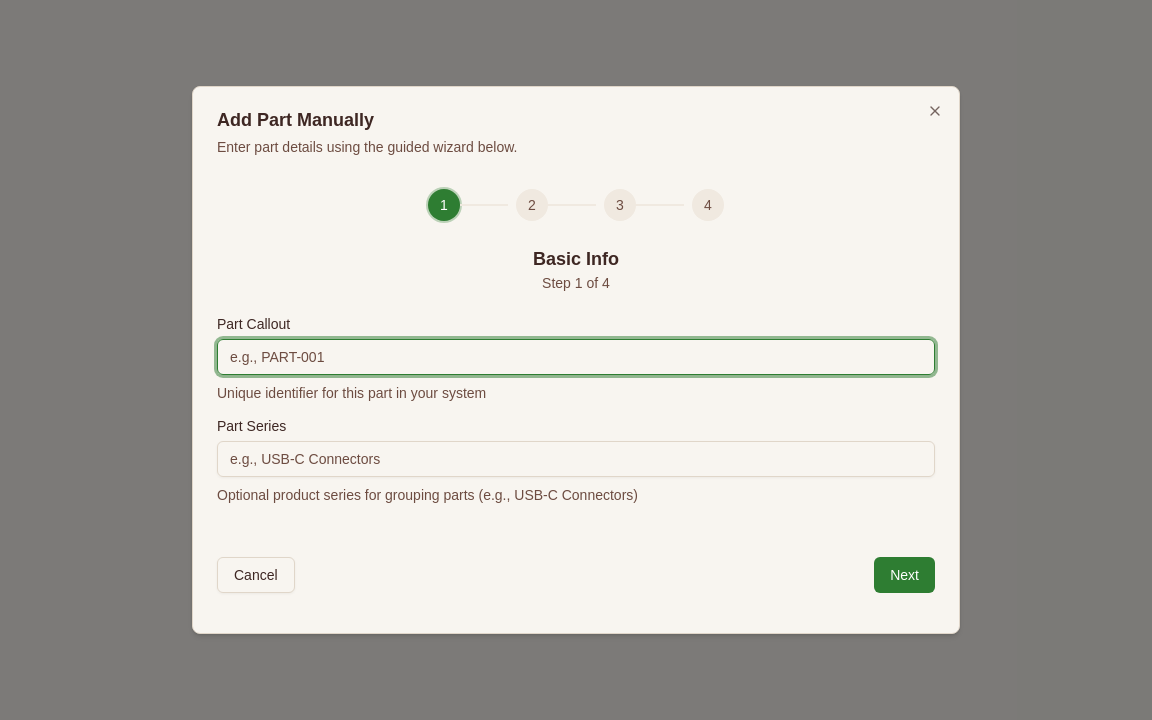
Test case: PartManualEntryModal › validation errors › shows validation error on step 1 for empty callout
This screenshot has width=1152, height=720.
Click the button "Next" at (905, 575), box [874,557,935,593]
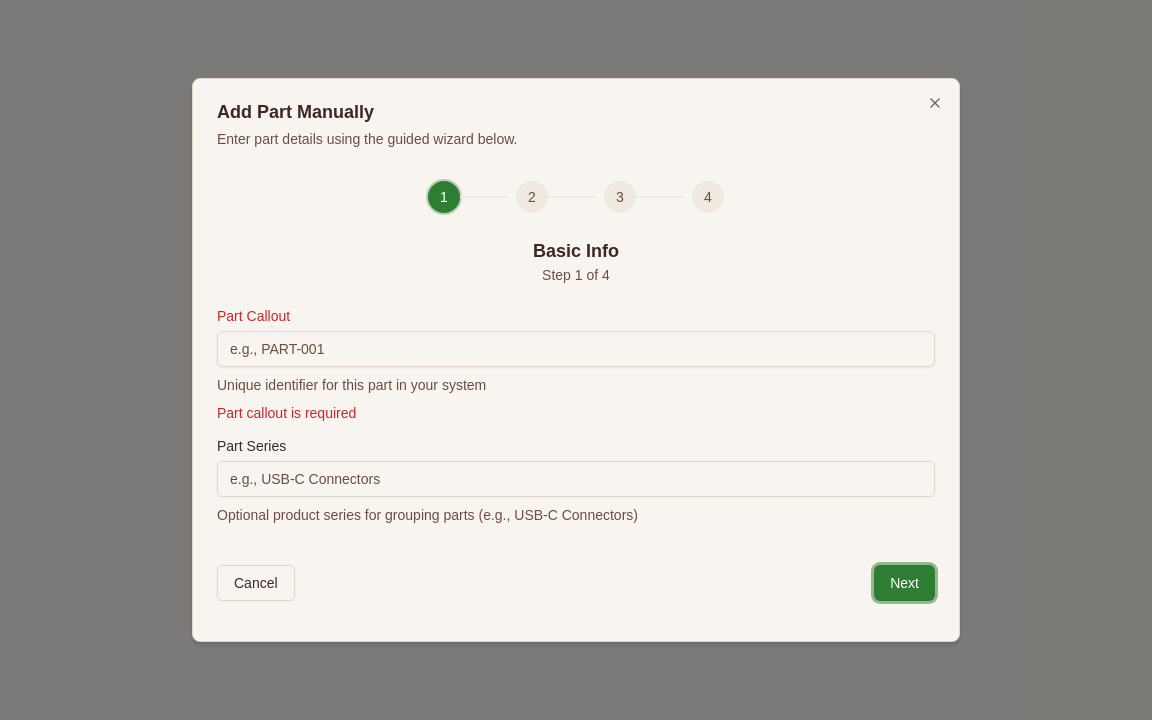
Check: the text "Part callout is required" is shown, box [217,405,356,421]
